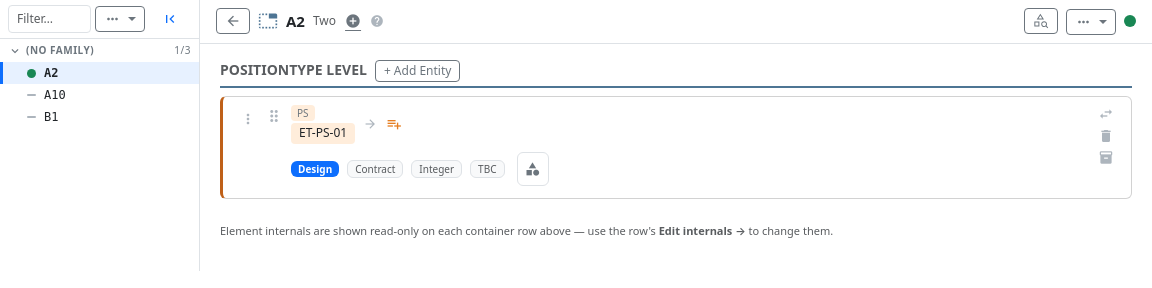
it: PositionRail in the recipe view › the list sits beside the open recipe, selected row highlighted, natural order
The image size is (1152, 288).
Hover over the button with test id "rail-A10" at (46, 95), box [27,88,66,102]
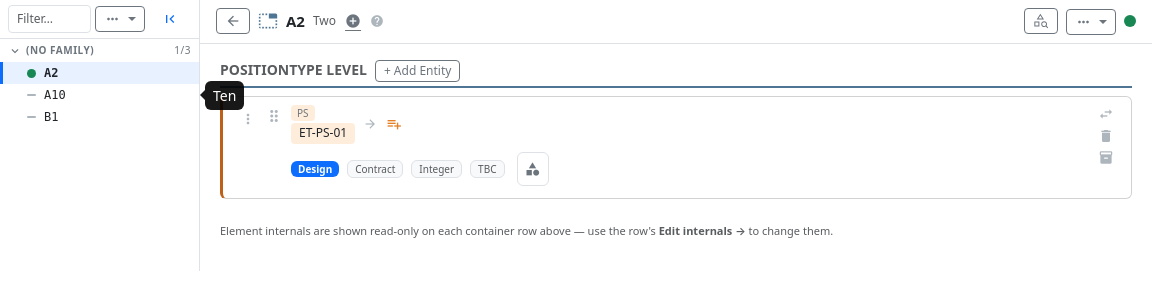
Check: the text "Ten" is shown, box [205,81,244,110]
